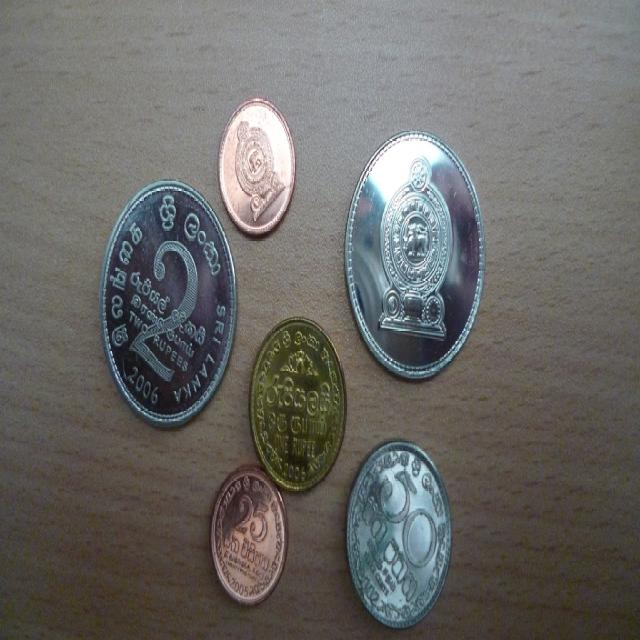Coin: (343, 130, 487, 380), (100, 181, 236, 427), (344, 442, 452, 631), (248, 319, 348, 496), (216, 95, 297, 239), (210, 461, 288, 605)
